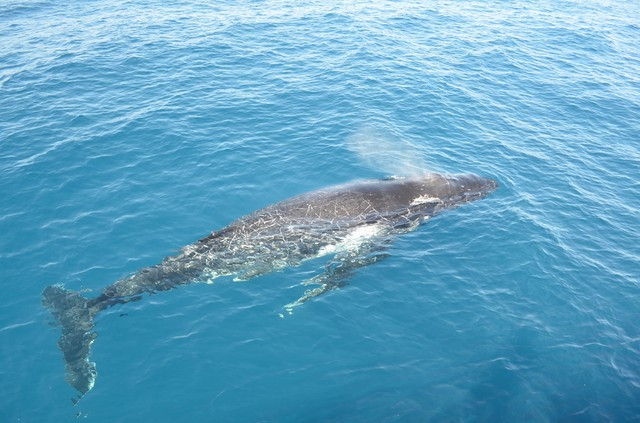whale: (43, 170, 503, 404)
